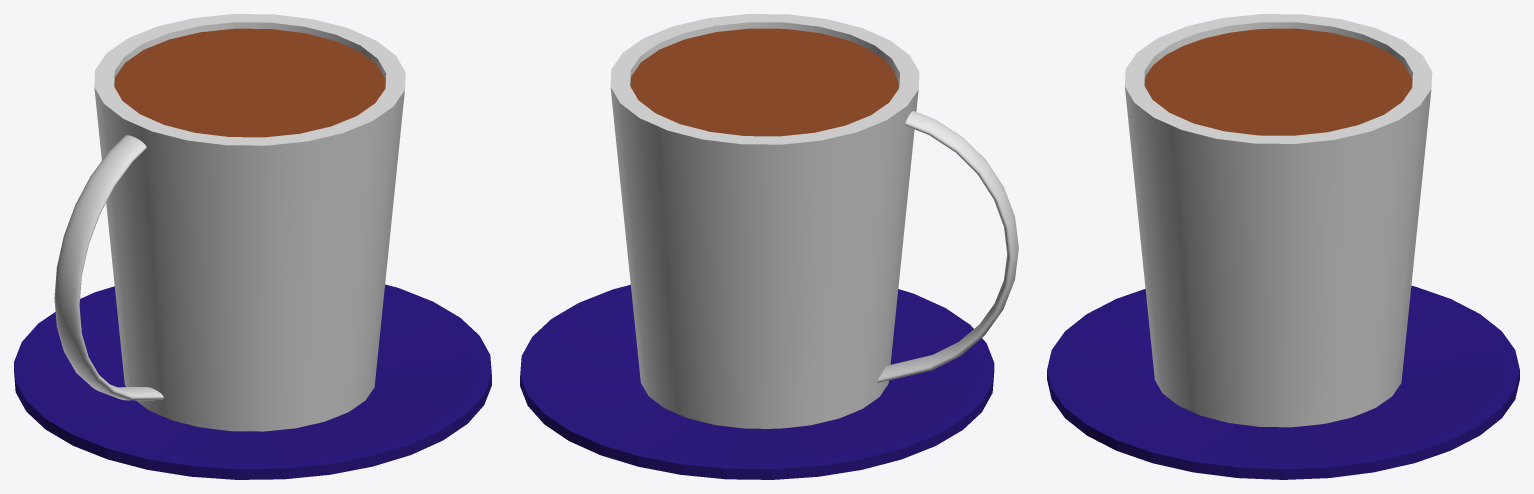
Rendered from Es Teh.fbx.
The picture shows the model from 3 angles, left to right: view 1: azimuth 30°, elevation 25°; view 2: azimuth 150°, elevation 25°; view 3: azimuth 270°, elevation 25°; orthographic projection.
Parts seen in each view (by area): view 1: Jus Jambu, Cylinder, Cylinder.001; view 2: Jus Jambu, Cylinder, Cylinder.001; view 3: Jus Jambu, Cylinder, Cylinder.001.
Boxes of the visible parts, <box> form: Jus Jambu: <box>54,14,405,431</box>; Cylinder: <box>14,284,491,479</box>; Cylinder.001: <box>114,28,385,137</box>; Jus Jambu: <box>610,14,1018,428</box>; Cylinder: <box>520,285,994,479</box>; Cylinder.001: <box>630,28,898,136</box>; Jus Jambu: <box>1124,14,1432,427</box>; Cylinder: <box>1047,285,1519,479</box>; Cylinder.001: <box>1145,28,1412,135</box>.
Size of the model in its own units: 5870 by 3976 by 5589.
